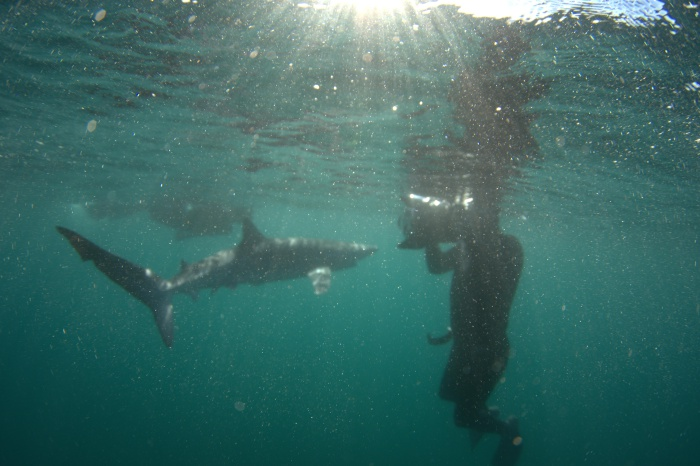Azul: (54, 202, 375, 355)
